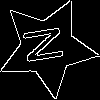N: (22, 22, 74, 66)
